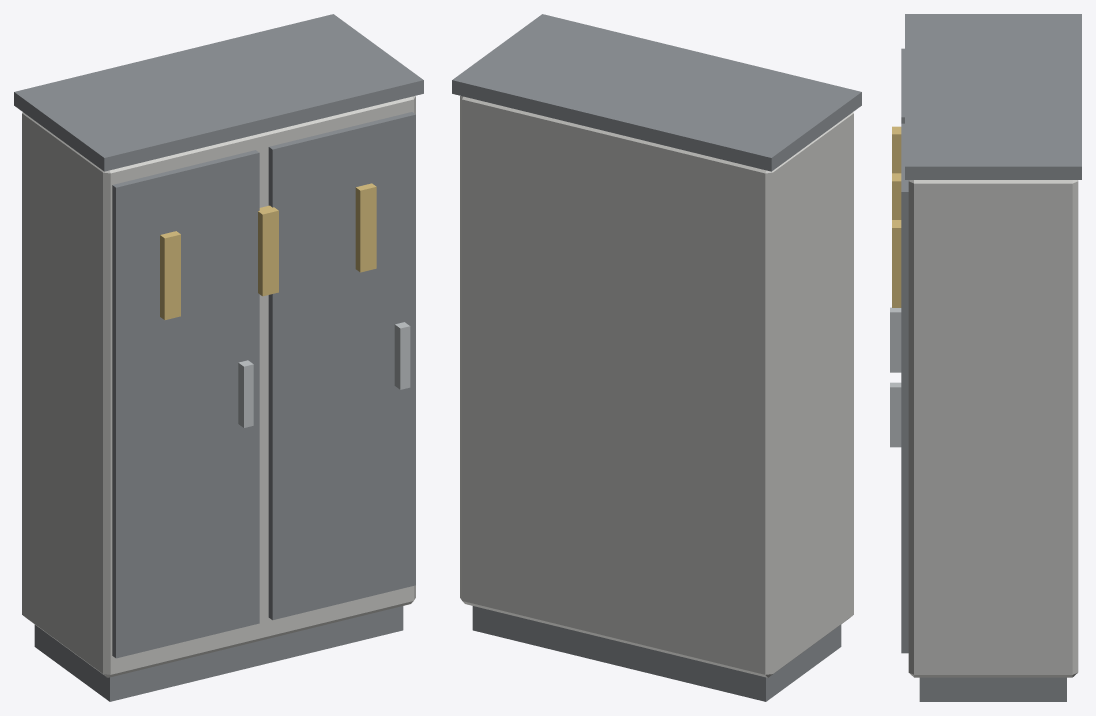
Rendered from P_tool_cabinet.fbx.
The picture shows the model from 3 angles, left to right: view 1: azimuth 30°, elevation 25°; view 2: azimuth 150°, elevation 25°; view 3: azimuth 270°, elevation 25°; orthographic projection. The views are drawn at different scales.
Visible parts, largest first — view 1: P_tool_cabinet; view 2: P_tool_cabinet; view 3: P_tool_cabinet.
Part boxes in pixels (bbox=[...]): P_tool_cabinet: bbox=[14, 14, 423, 701]; P_tool_cabinet: bbox=[452, 14, 861, 701]; P_tool_cabinet: bbox=[890, 14, 1081, 701].
Bounding box in the file's own units: 0.98 × 1.62 × 0.52.
